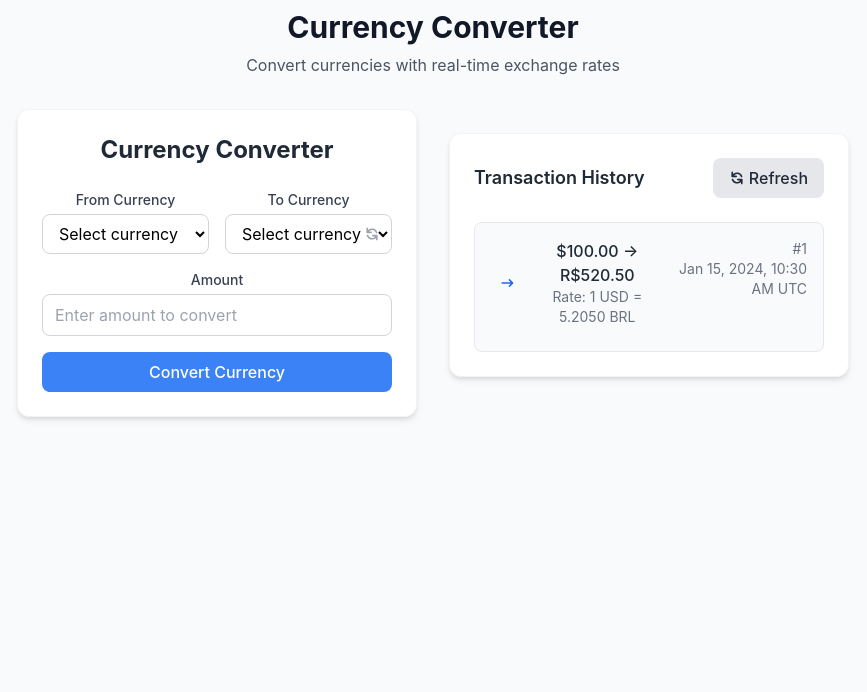
Currency Converter App › should allow currency conversion
This screenshot has width=867, height=692.
// Fill the conversion form using proper selectors
Select "USD - US Dollar" in the dropdown with id "from-currency" at coordinates (126, 234), box [42, 214, 209, 254]
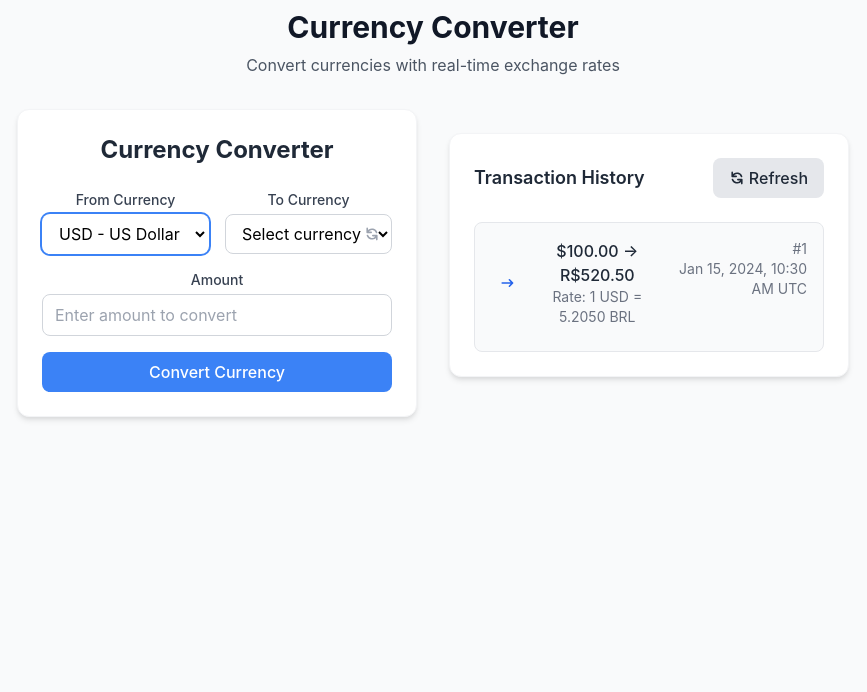
Select "BRL - Brazilian Real" in the dropdown with id "to-currency" at coordinates (309, 234), box [225, 214, 392, 254]
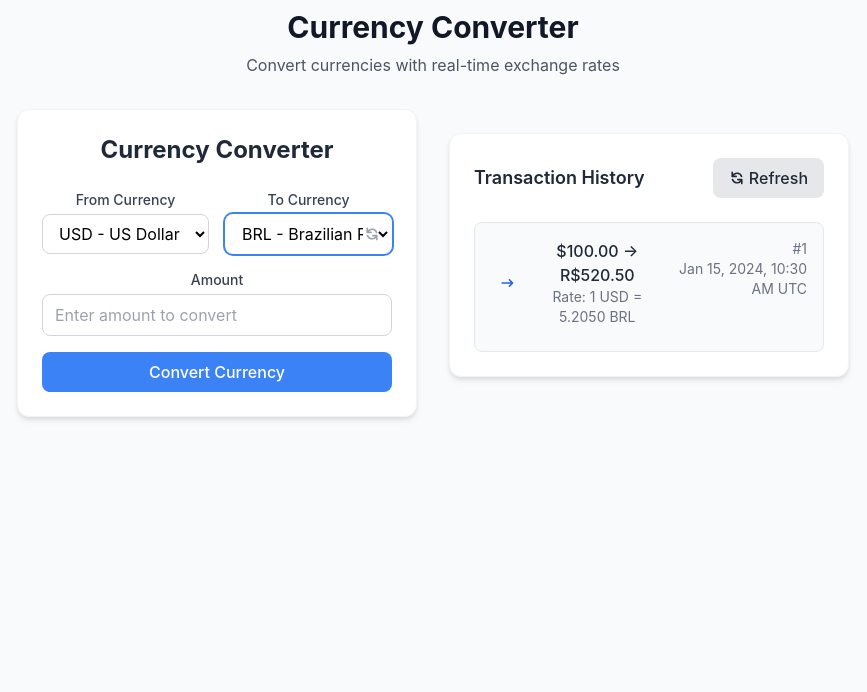
Type "100" into the number field with id "amount" at coordinates (217, 315), box [42, 294, 392, 336]
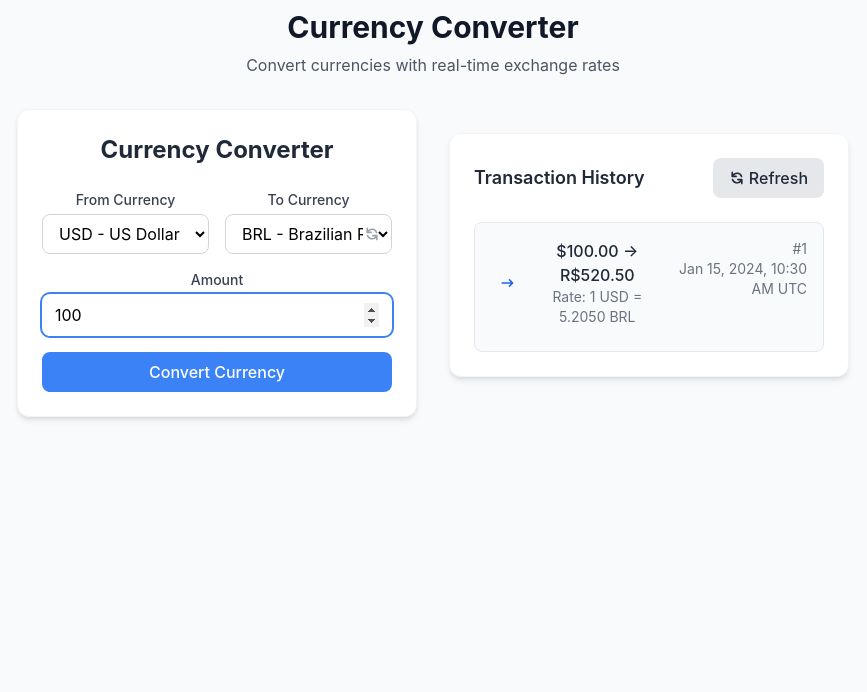
// Submit the form
Click the submit button at coordinates (217, 372), box [42, 352, 392, 392]
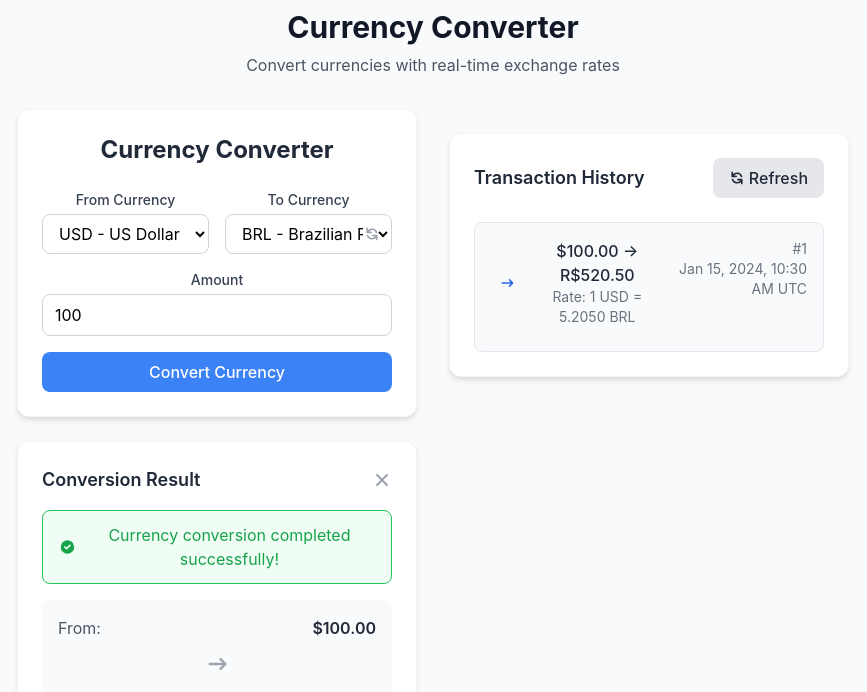
Now the heading "Conversion Result" is shown, box [42, 466, 200, 494]
Now the text "Currency conversion completed successfully!" is shown, box [108, 525, 350, 569]
